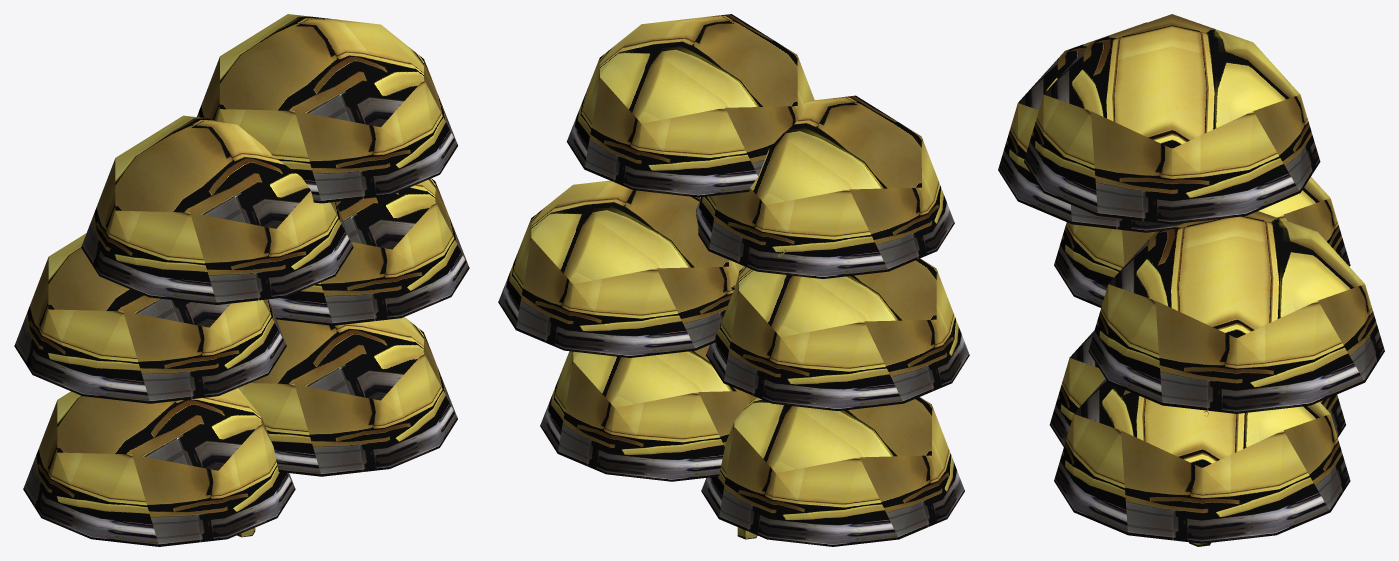
The picture shows the model from 3 angles, left to right: view 1: azimuth 30°, elevation 25°; view 2: azimuth 150°, elevation 25°; view 3: azimuth 270°, elevation 25°; orthographic projection. The views are drawn at different scales.
Parts seen in each view (by area): view 1: 2_Cluster4; view 2: 2_Cluster4; view 3: 2_Cluster4.
Boxes of the visible parts, box(x1,y1,x2,y2) form: 2_Cluster4: box(14, 14, 469, 546); 2_Cluster4: box(498, 14, 969, 546); 2_Cluster4: box(998, 14, 1384, 543).
Bounding box in the file's own units: 127 × 140 × 89.76.
Materials: 1 (1 with a texture image).
